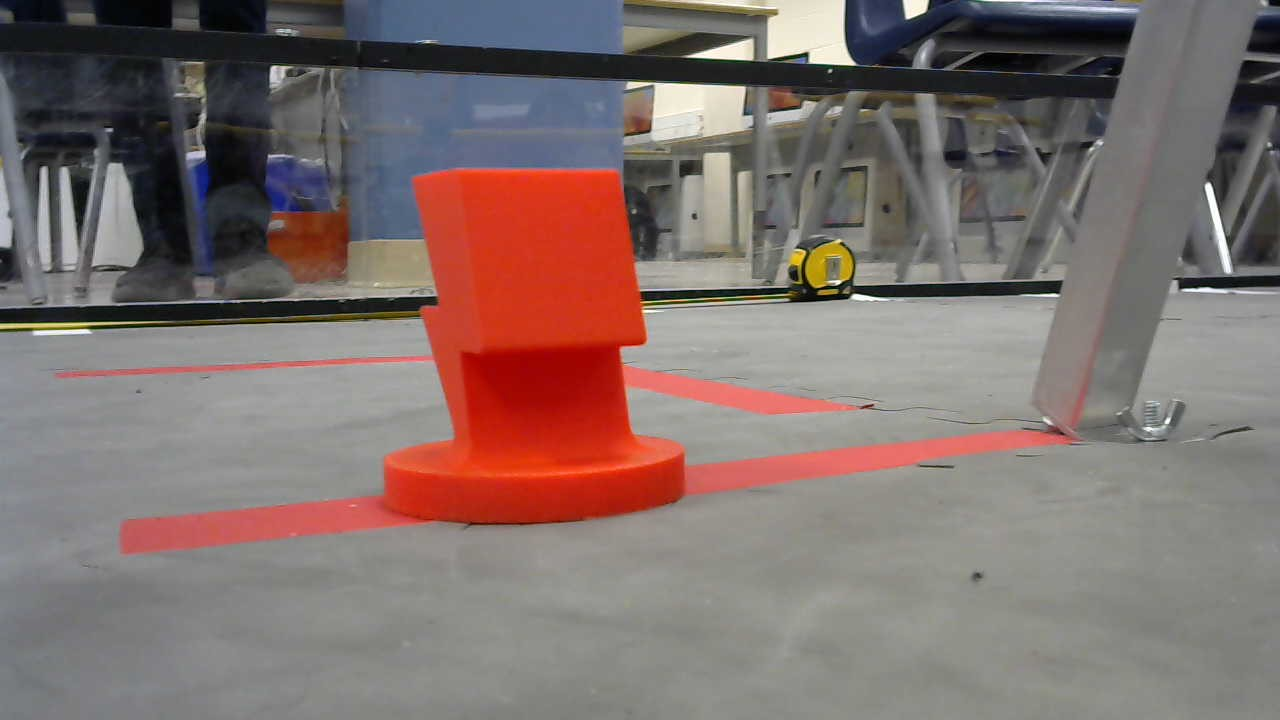redobject: (383, 166, 688, 531)
